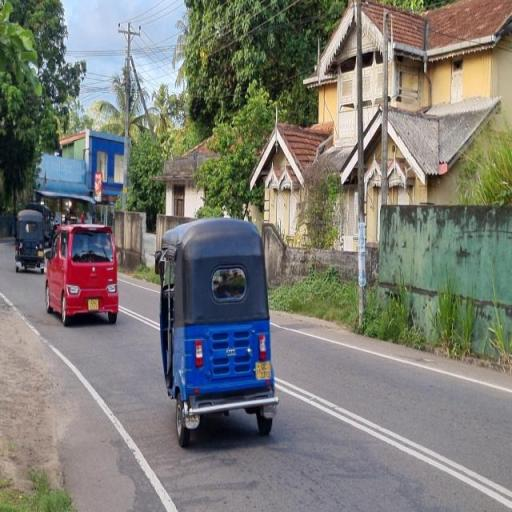double_white_line: (272, 371, 509, 510), (0, 290, 42, 336), (120, 304, 161, 331)
